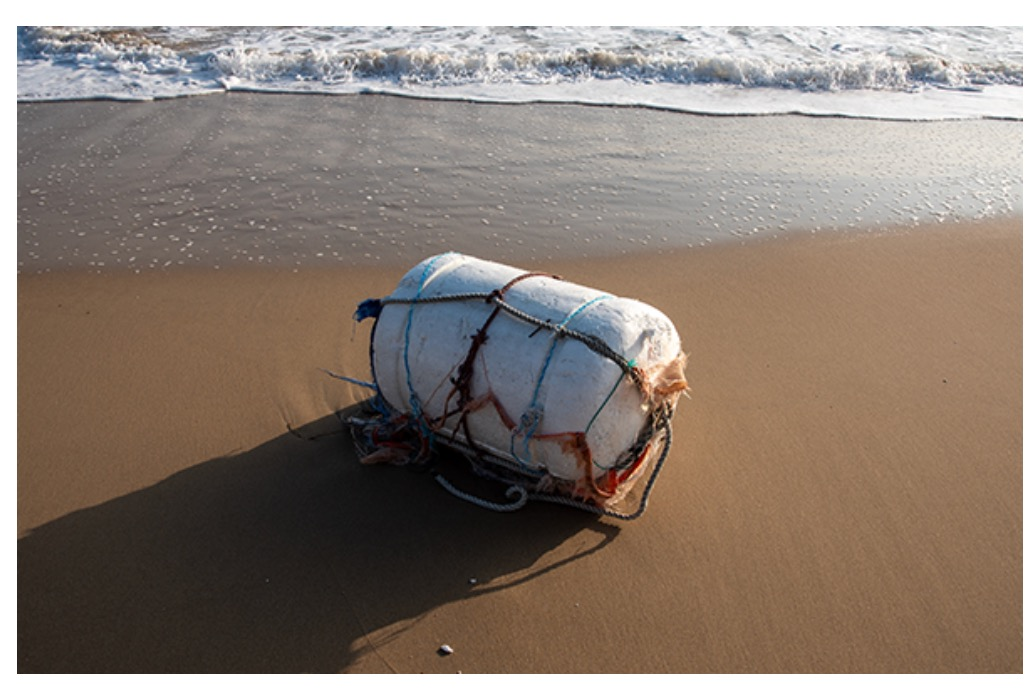buoy: (350, 250, 689, 485)
